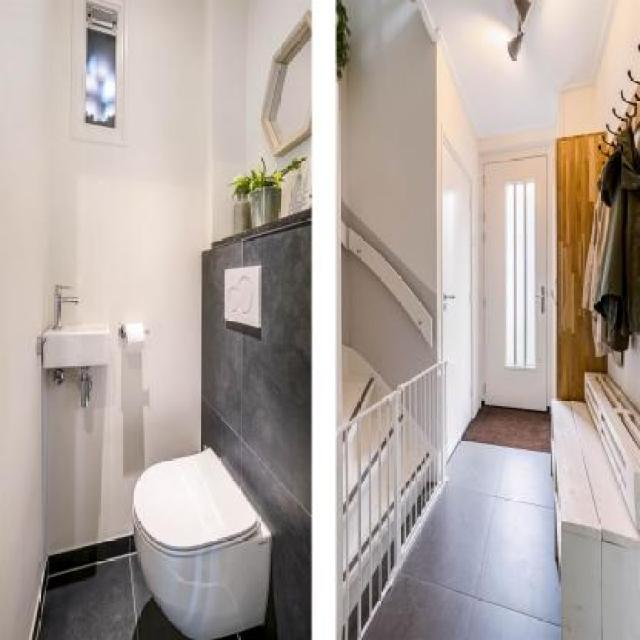floor: (363, 404, 561, 640)
